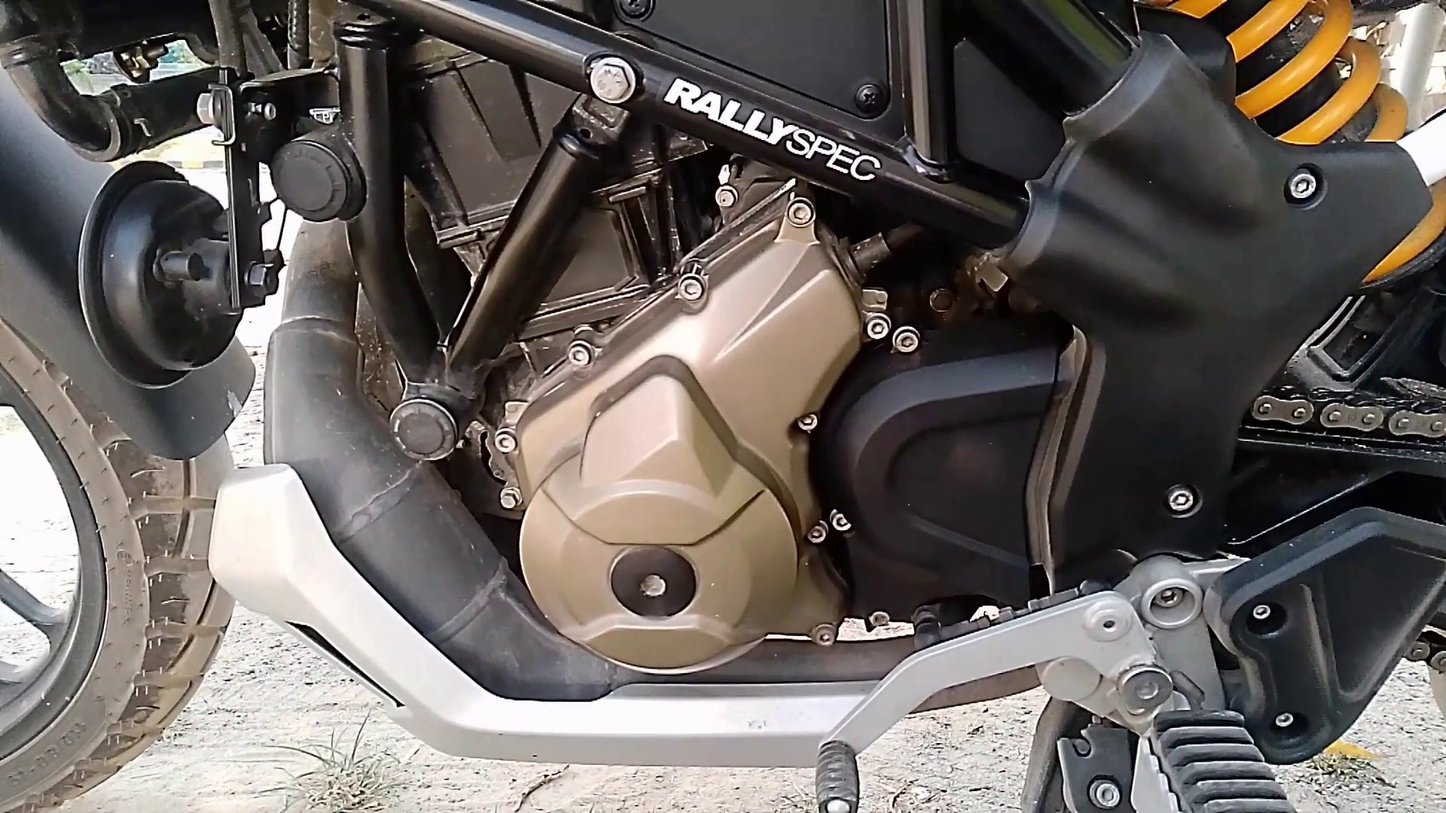engine-casing-left: (481, 177, 862, 678)
